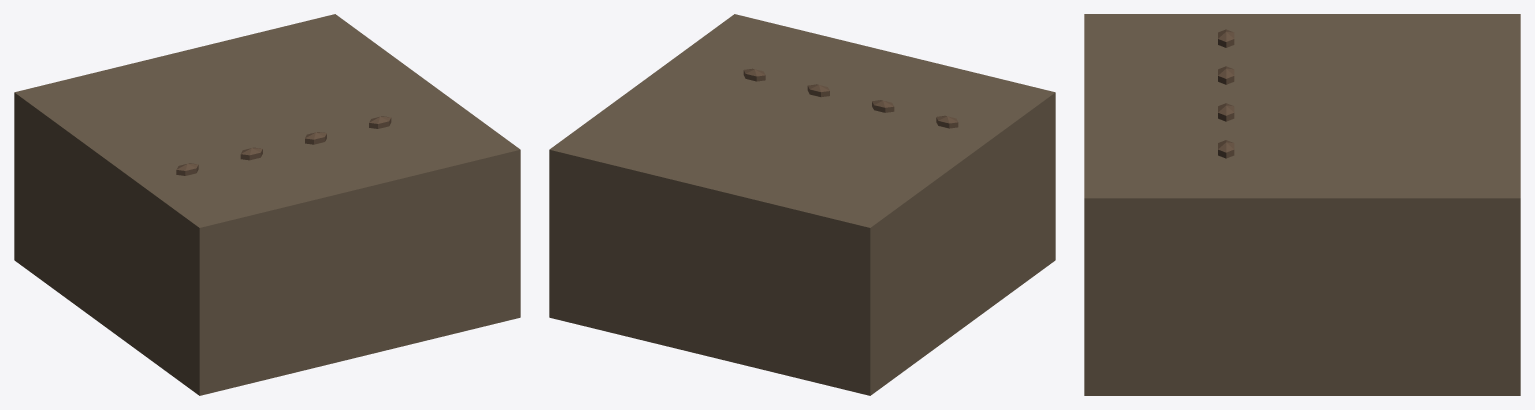
The model's file is terrain-soil-block.lod0.glb.
The picture shows the model from 3 angles, left to right: view 1: azimuth 30°, elevation 25°; view 2: azimuth 150°, elevation 25°; view 3: azimuth 270°, elevation 25°; orthographic projection. The views are drawn at different scales.
Parts seen in each view (by area): view 1: terrain-soil-block__body; view 2: terrain-soil-block__body; view 3: terrain-soil-block__body.
Boxes of the visible parts, box(x1,y1,x2,y2) form: terrain-soil-block__body: box(14, 14, 520, 395); terrain-soil-block__body: box(549, 14, 1055, 395); terrain-soil-block__body: box(1084, 14, 1520, 395).
Size of the model in its own units: 2 by 1.05 by 2.
